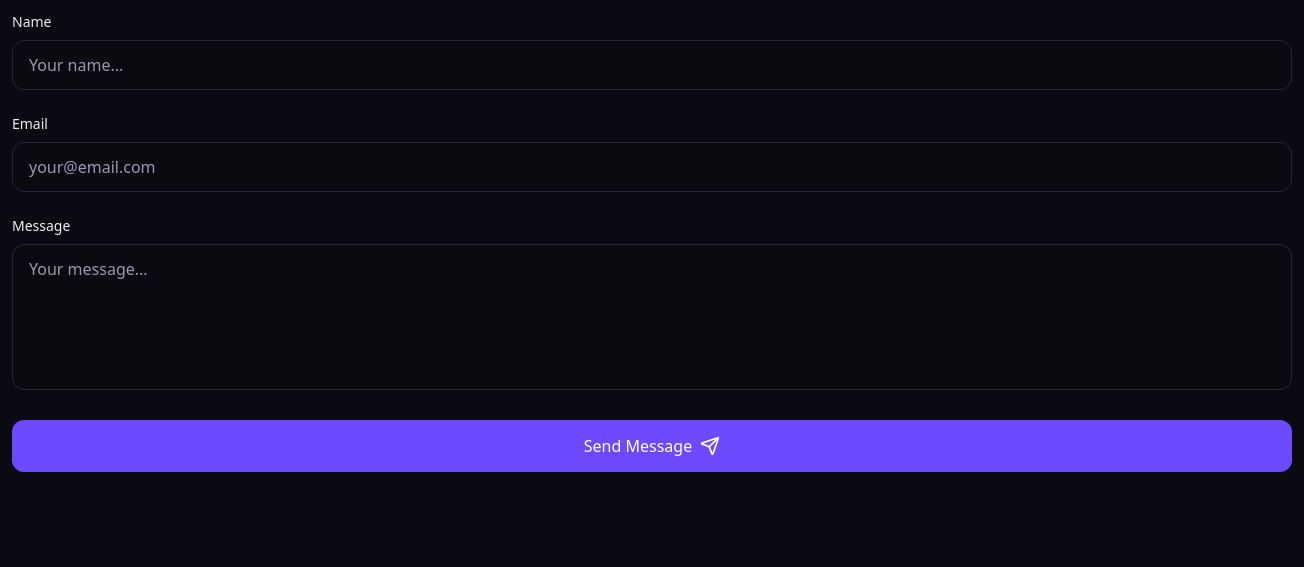
it: ContactForm › confirms success and clears the form
Type "Ada Lovelace" into the field labelled "Name".
click(652, 65); type("Ada Lovelace")  # box [12,40,1292,90]
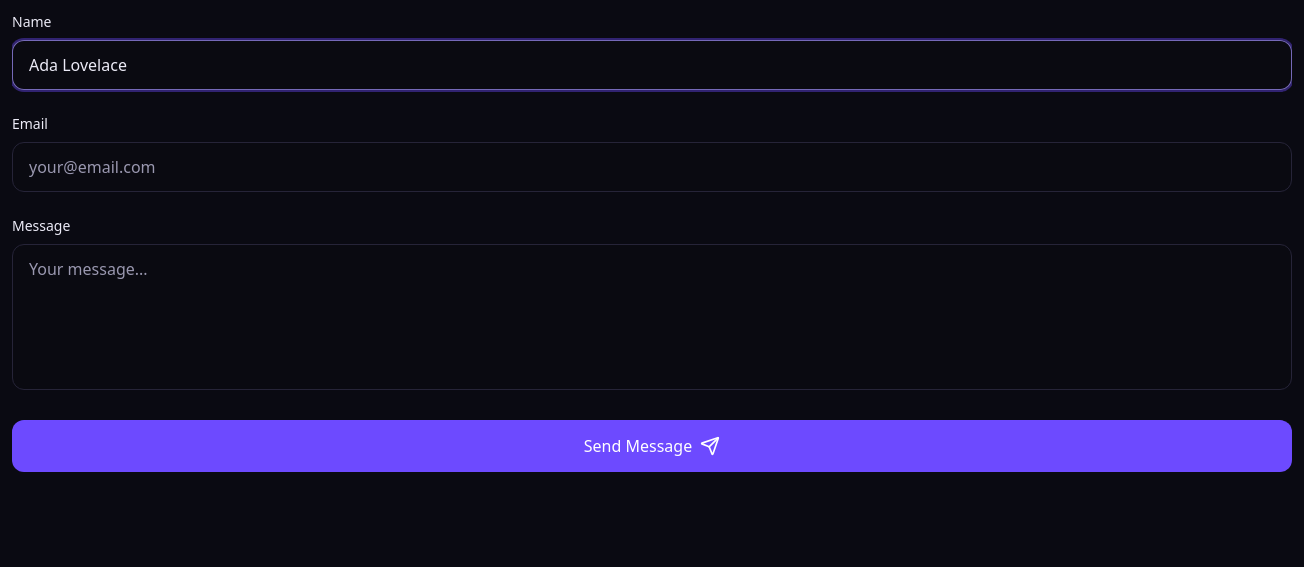
Type "ada@example.com" into the field labelled "Email".
click(652, 167); type("ada@example.com")  # box [12,142,1292,192]
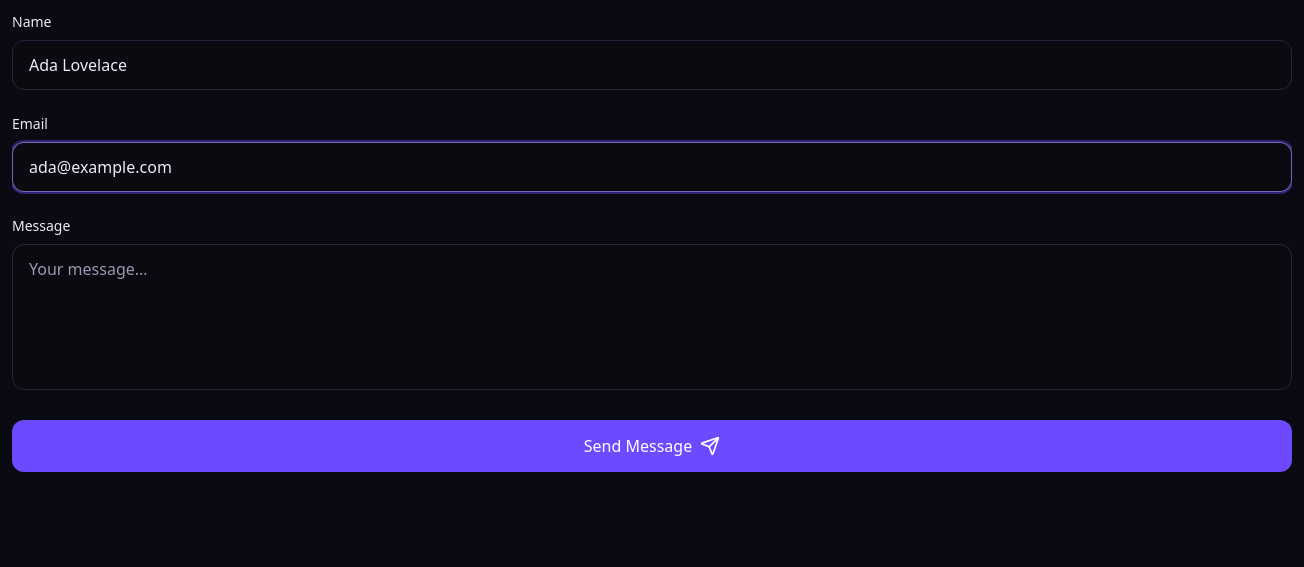
Type "Let's work together." into the text box labelled "Message".
click(652, 317); type("Let's work together.")  # box [12,244,1292,390]
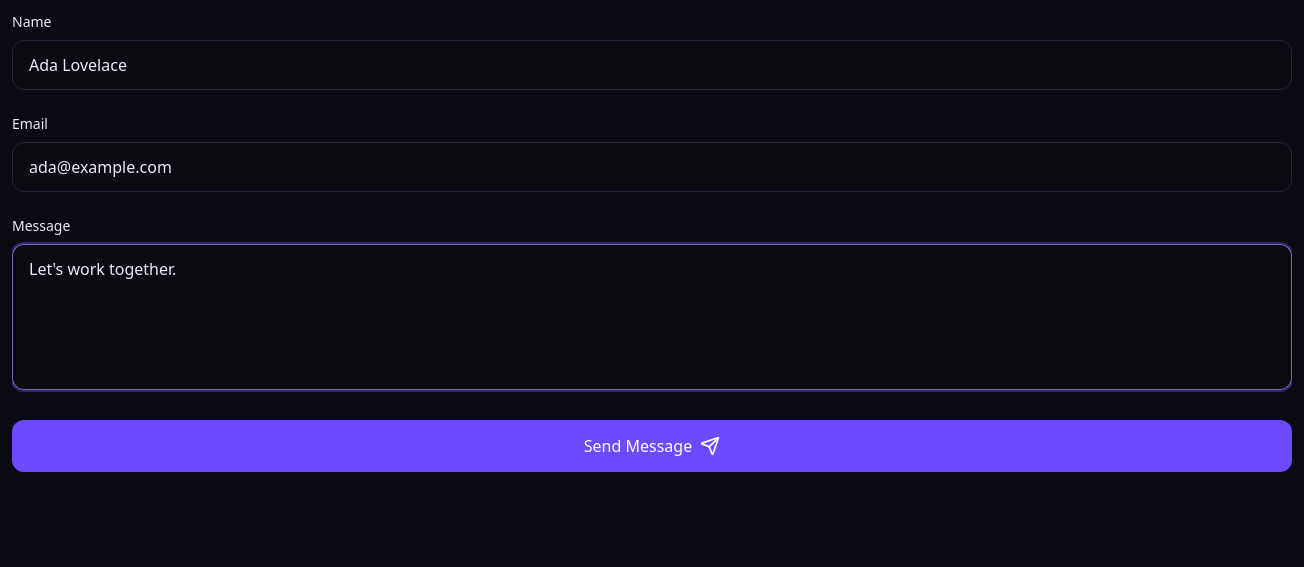
Click the button "Send Message".
click(652, 446)  # box [12,420,1292,472]
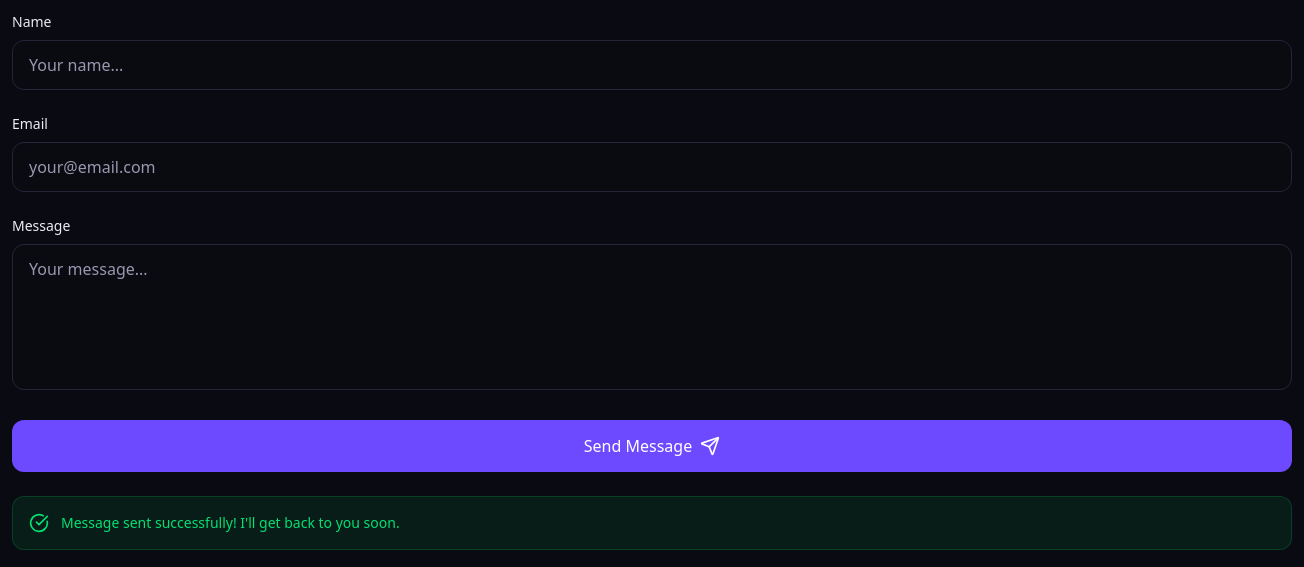
Expected: the message reads "Message sent successfully! I'll get back to you soon.", [61,513,400,532]
Expected: the field labelled "Name" is empty, [12,40,1292,90]
Expected: the field labelled "Email" is empty, [12,142,1292,192]
